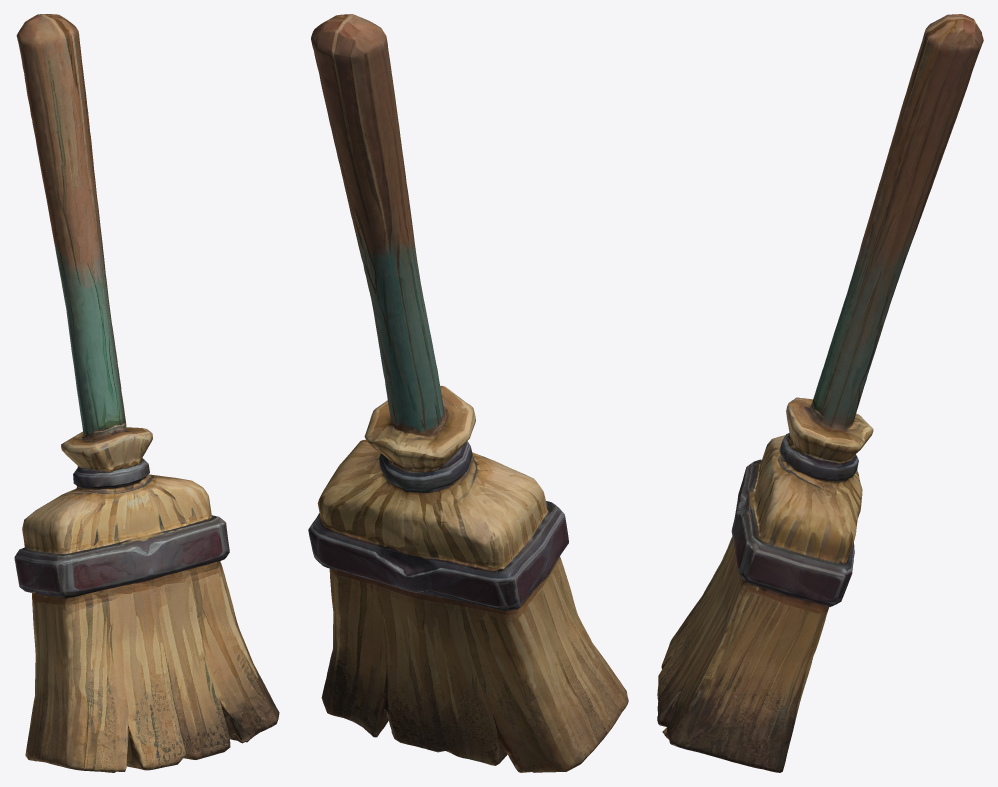
Rendered from Prop_Broom.fbx.
3 renders of one model, left to right at view 1: azimuth 30°, elevation 25°; view 2: azimuth 150°, elevation 25°; view 3: azimuth 270°, elevation 25°, orthographic. The views are drawn at different scales.
Parts seen in each view (by area): view 1: texture_mapping; view 2: texture_mapping; view 3: texture_mapping.
Boxes of the visible parts, bbox=[...] form: texture_mapping: bbox=[14, 14, 279, 772]; texture_mapping: bbox=[308, 14, 628, 772]; texture_mapping: bbox=[657, 14, 983, 772].
Size of the model in its own units: 0.3469 by 0.4124 by 0.9985.
Materials: 1 (1 with a texture image).
